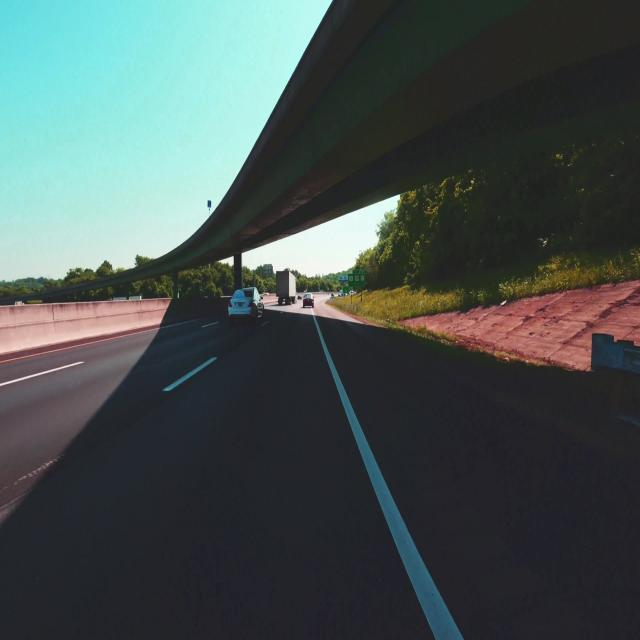car: (229, 288, 263, 324), (303, 293, 314, 307), (297, 295, 302, 299)
